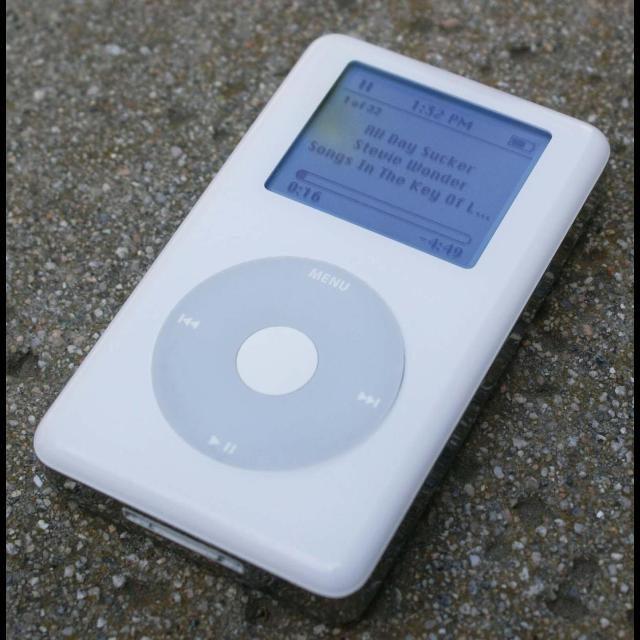Music-Player: (26, 21, 616, 616)
